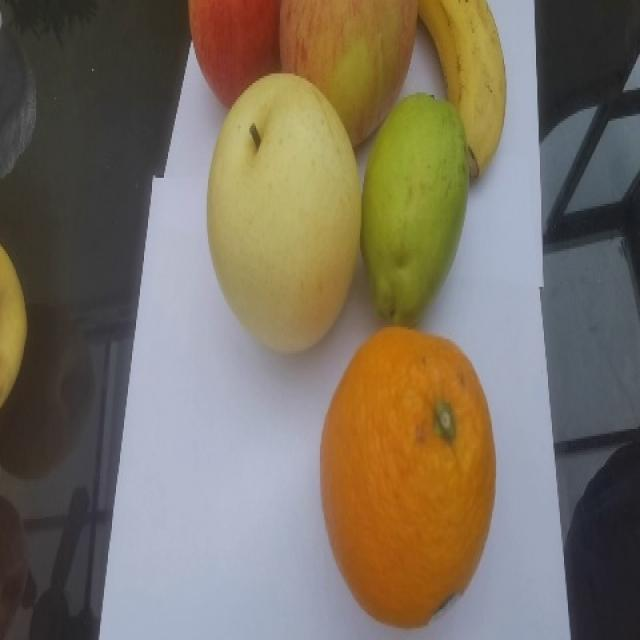Apple: (278, 0, 419, 149), (187, 0, 280, 108)
Banana: (417, 0, 507, 181)
Orange: (319, 324, 496, 629)
